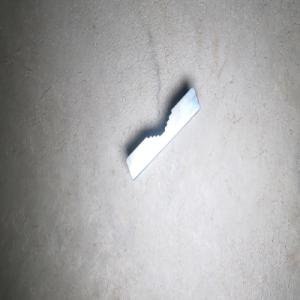ClampPart: (125, 85, 201, 182)
